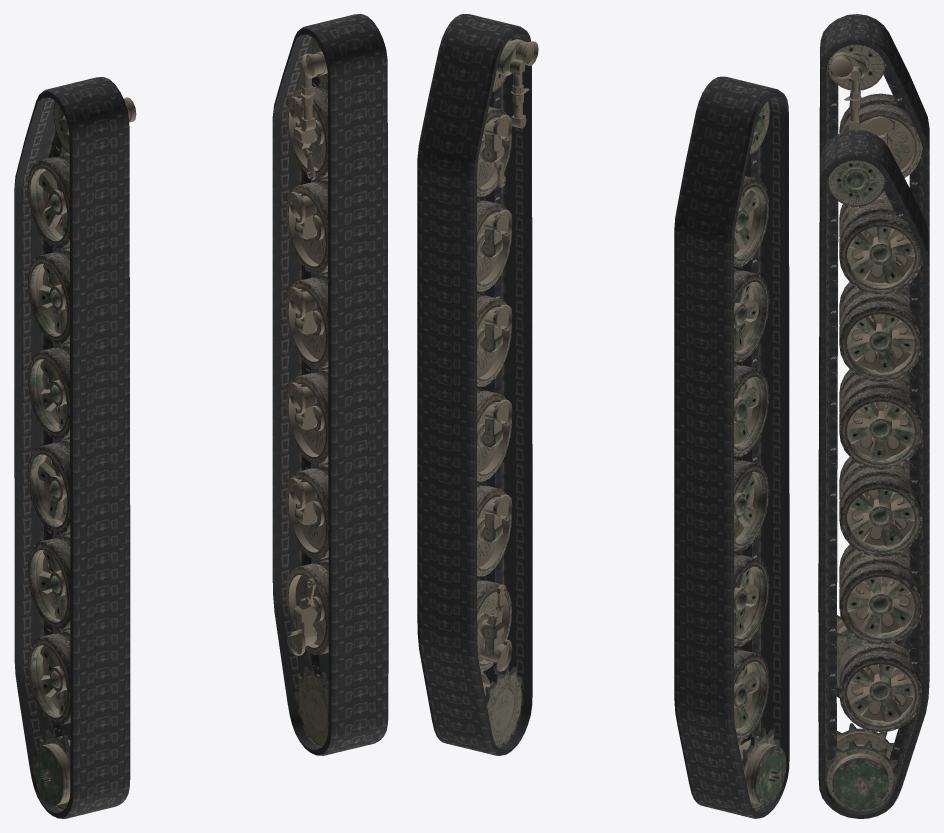
File: Chassis.glb
The picture shows the model from 3 angles, left to right: view 1: azimuth 30°, elevation 25°; view 2: azimuth 150°, elevation 25°; view 3: azimuth 270°, elevation 25°; orthographic projection. The views are drawn at different scales.
Parts seen in each view (by area): view 1: set_0_group_0, set_1_group_0, set_2_group_0, set_3_group_0; view 2: set_0_group_0, set_1_group_0, set_3_group_0, set_2_group_0; view 3: set_3_group_0, set_1_group_0, set_2_group_0, set_0_group_0.
Boxes of the visible parts, left/top/right/bottom form: set_0_group_0: left=14, top=77, right=130, bottom=818; set_1_group_0: left=272, top=14, right=388, bottom=755; set_2_group_0: left=27, top=97, right=136, bottom=810; set_3_group_0: left=286, top=39, right=381, bottom=746; set_0_group_0: left=674, top=76, right=789, bottom=818; set_1_group_0: left=417, top=14, right=532, bottom=755; set_3_group_0: left=441, top=38, right=538, bottom=746; set_2_group_0: left=698, top=101, right=786, bottom=809; set_3_group_0: left=825, top=160, right=922, bottom=810; set_1_group_0: left=818, top=129, right=929, bottom=818; set_2_group_0: left=827, top=44, right=922, bottom=687; set_0_group_0: left=818, top=14, right=929, bottom=697.
Size of the model in its own units: 3.45 by 7.15 by 1.08.
Materials: 4 (4 with a texture image).
